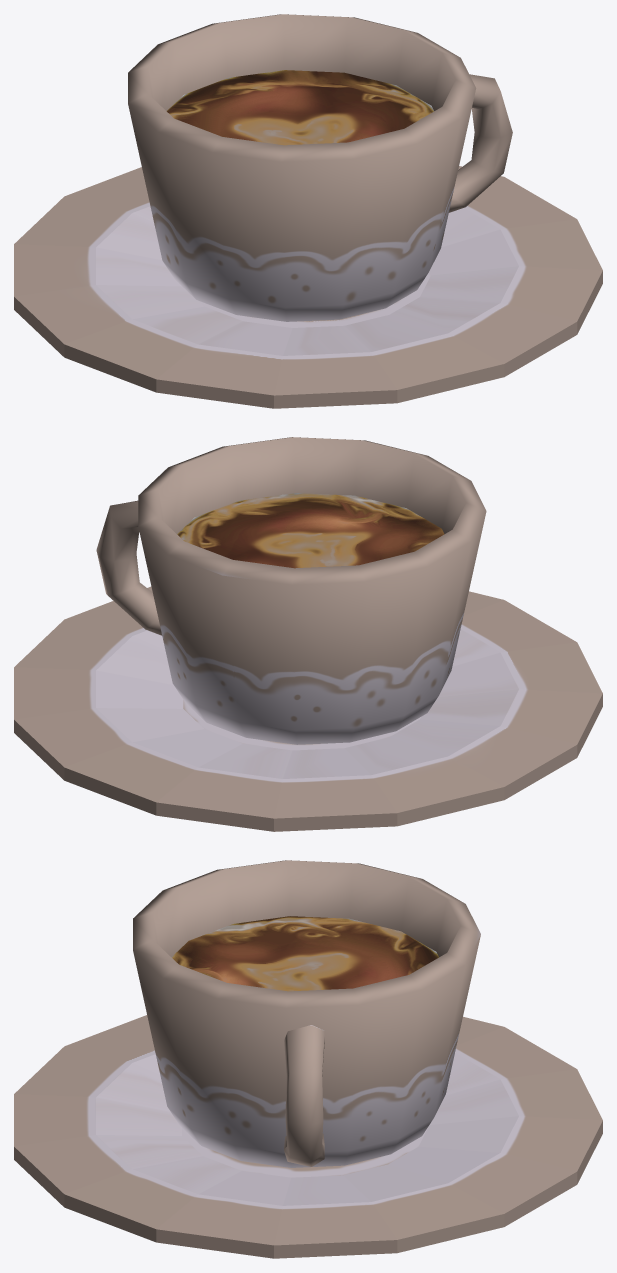
Rendered from xícara cheia.fbx.
The picture shows the model from 3 angles, top to bottom: view 1: azimuth 30°, elevation 25°; view 2: azimuth 150°, elevation 25°; view 3: azimuth 270°, elevation 25°; orthographic projection.
Parts seen in each view (by area): view 1: Cylinder.004; view 2: Cylinder.004; view 3: Cylinder.004.
Boxes of the visible parts, x1=… form: Cylinder.004: x1=14, y1=14, x2=602, y2=408; Cylinder.004: x1=14, y1=437, x2=602, y2=831; Cylinder.004: x1=14, y1=860, x2=602, y2=1258.
Bounding box in the file's own units: 3.01 × 1.3 × 2.99.
